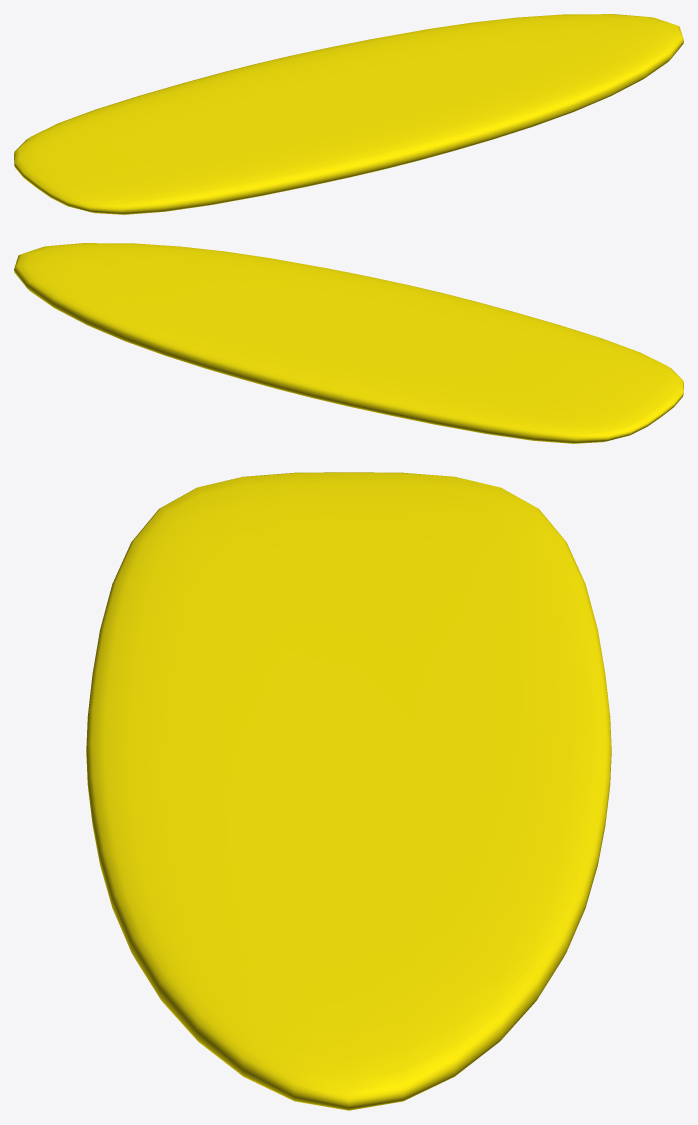
File: leftWing.fbx
3 renders of one model, top to bottom at view 1: azimuth 30°, elevation 25°; view 2: azimuth 150°, elevation 25°; view 3: azimuth 270°, elevation 25°, orthographic. The views are drawn at different scales.
Visible parts, largest first — view 1: Cube; view 2: Cube; view 3: Cube.
Boxes of the visible parts, left/top/right/bottom form: Cube: left=14, top=14, right=683, bottom=214; Cube: left=14, top=243, right=683, bottom=443; Cube: left=86, top=472, right=611, bottom=1110.
Size of the model in its own units: 3393 by 108 by 1199.
